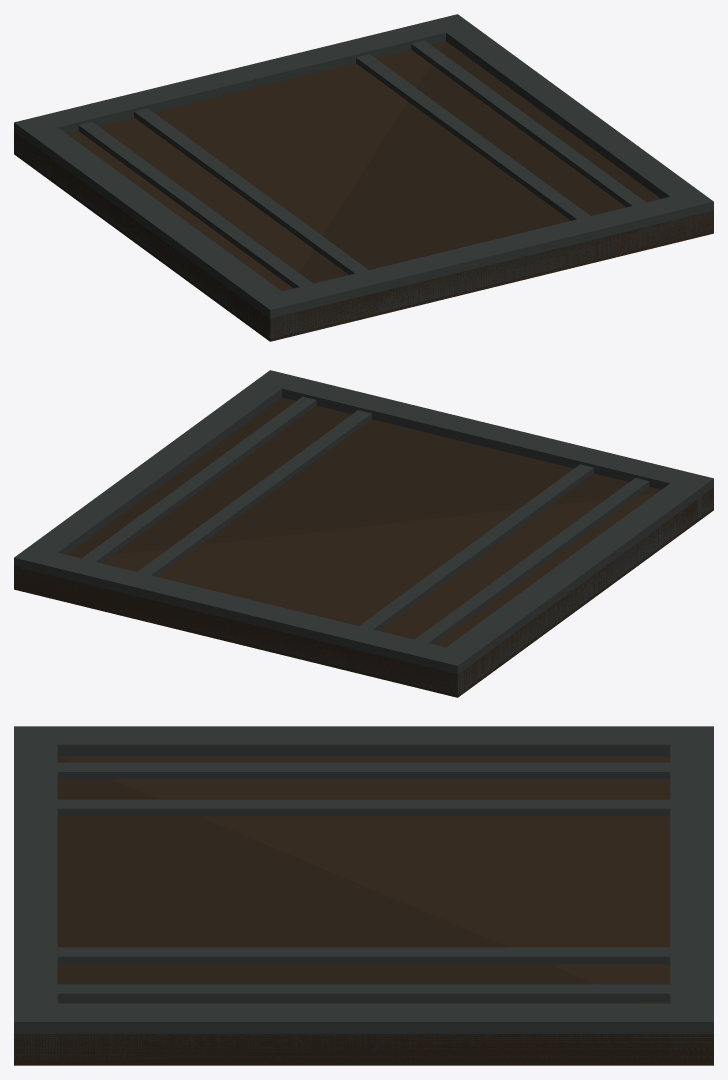
Rendered from 1941-Street-furniture-tree-pit.glb.
3 renders of one model, top to bottom at view 1: azimuth 30°, elevation 25°; view 2: azimuth 150°, elevation 25°; view 3: azimuth 270°, elevation 25°, orthographic. The views are drawn at different scales.
Visible parts, largest first — view 1: Street furniture/tree pit; view 2: Street furniture/tree pit; view 3: Street furniture/tree pit.
Part boxes in pixels (x1,y1,x2,y2): Street furniture/tree pit: (14, 14, 713, 341); Street furniture/tree pit: (14, 370, 713, 697); Street furniture/tree pit: (14, 726, 713, 1065).
Bounding box in the file's own units: 0.8 × 0.055 × 0.8.
